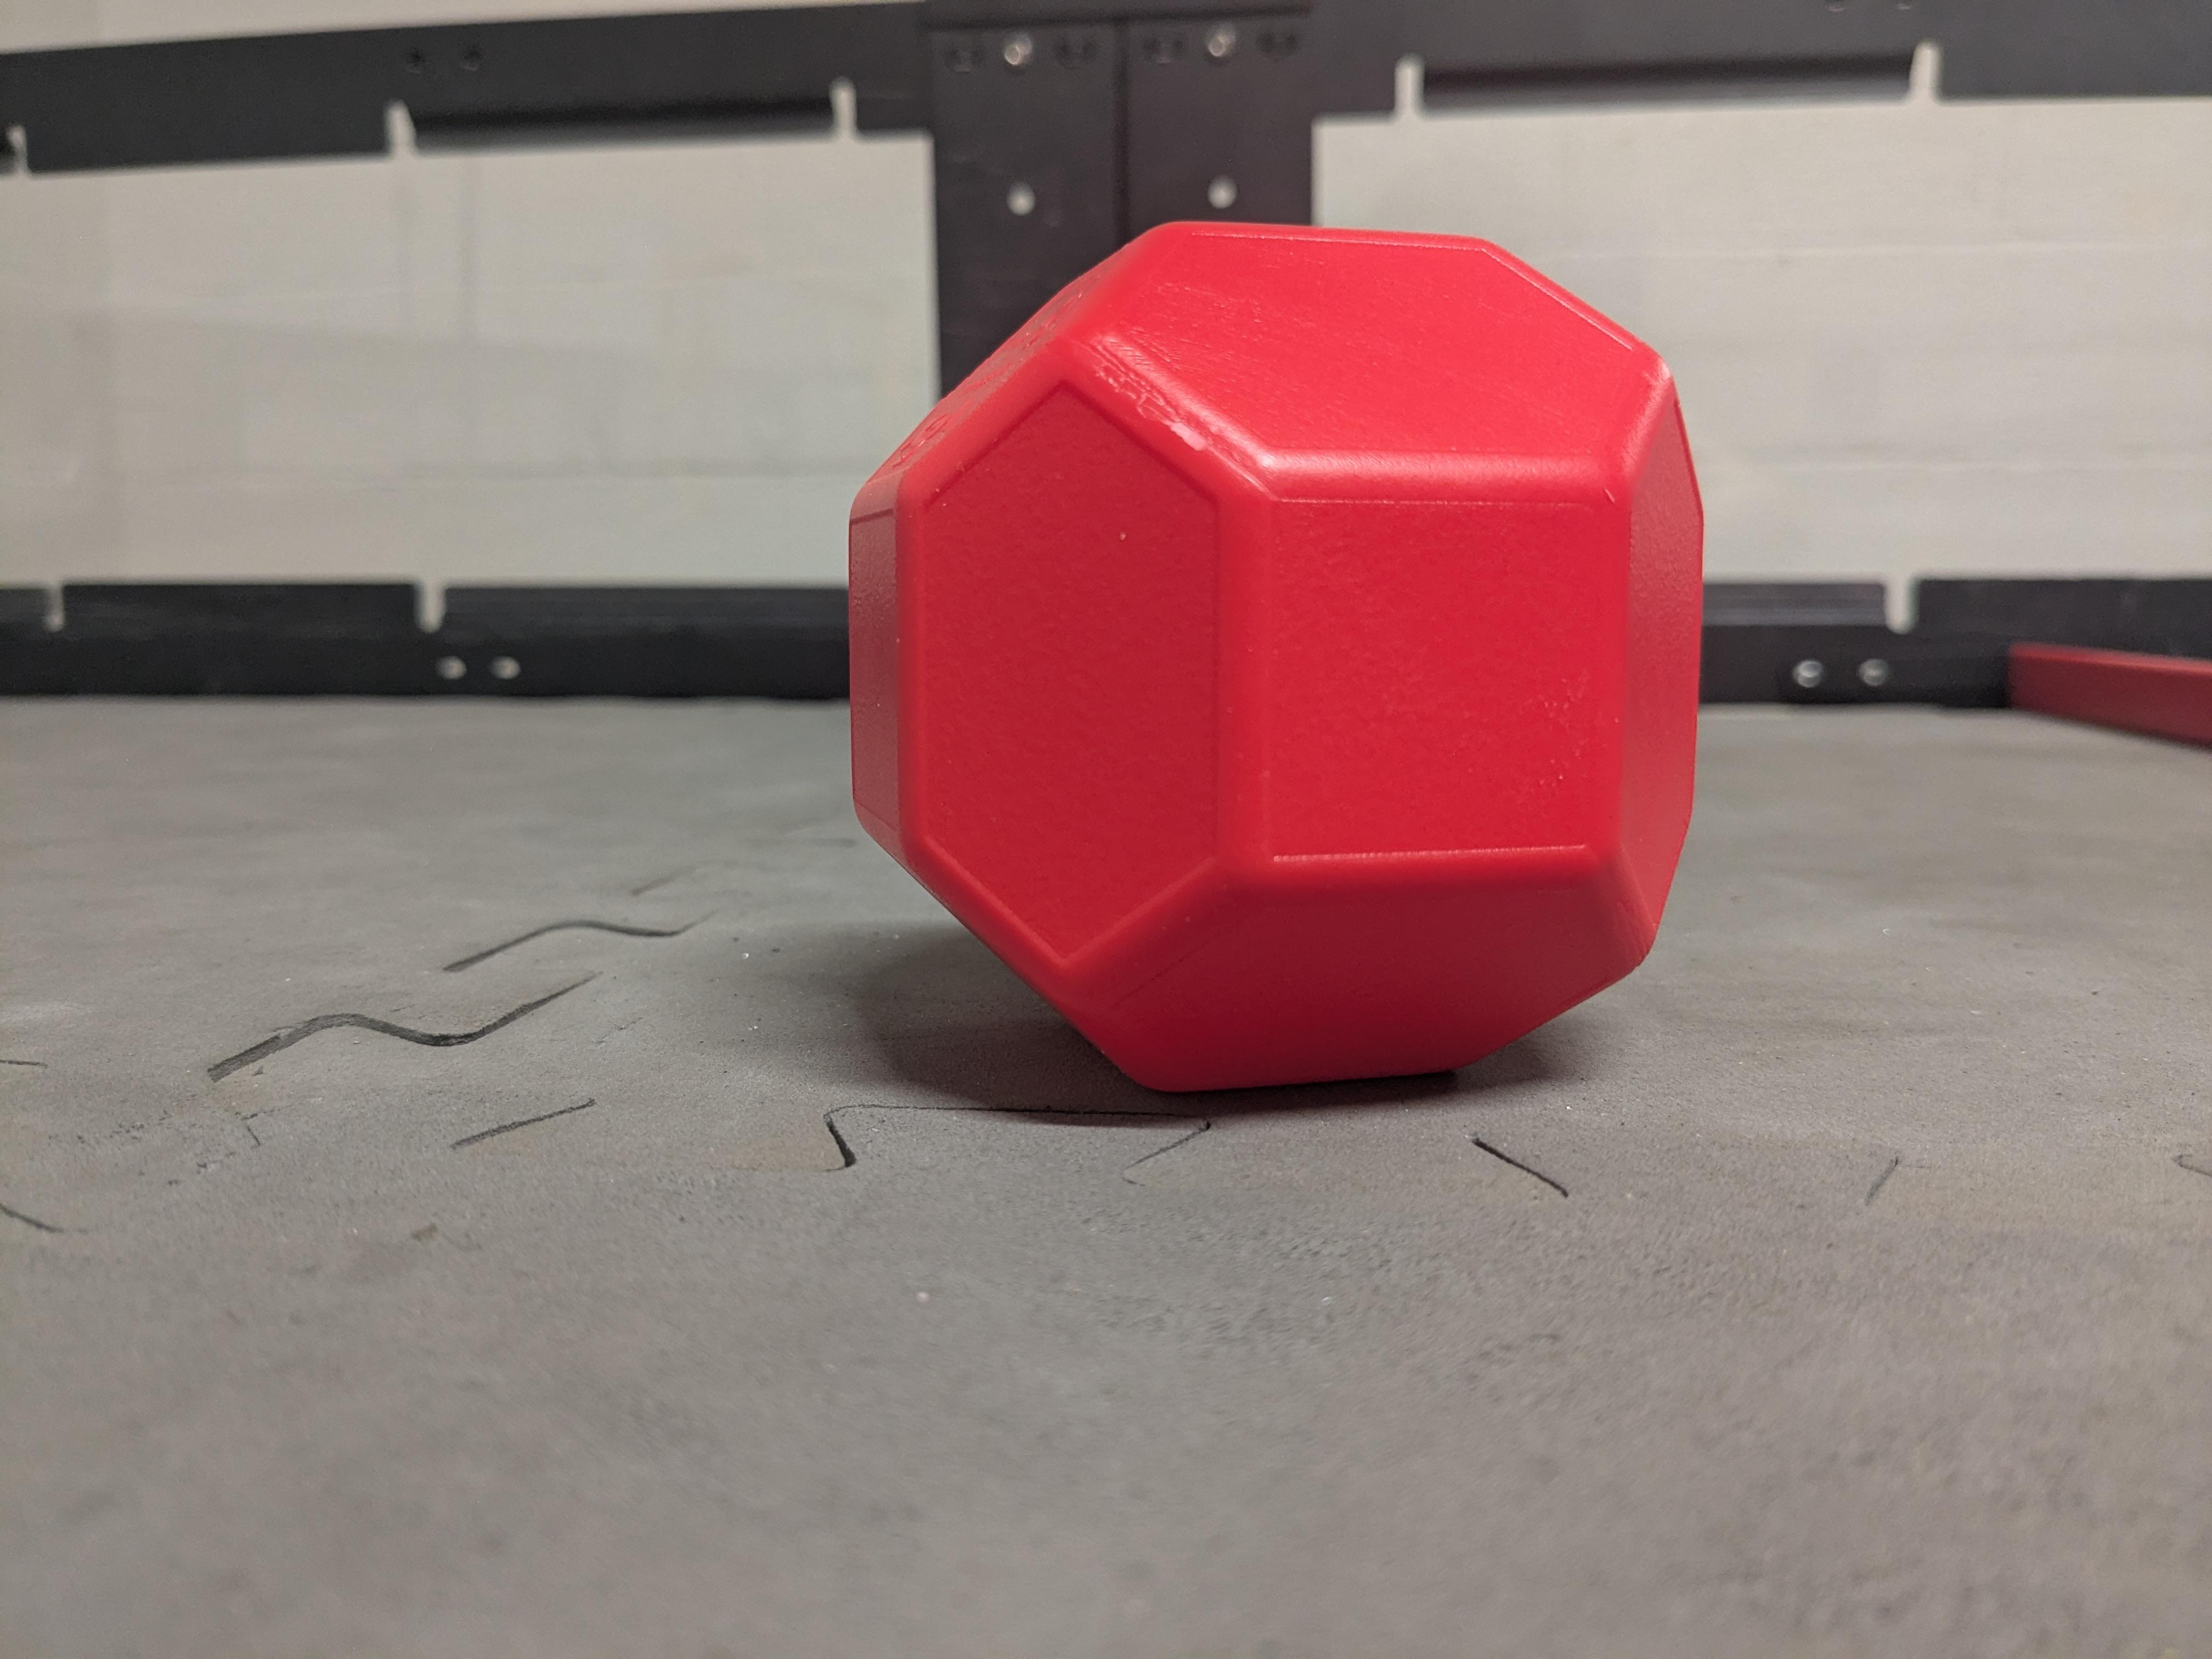Vex-Pieces-RED: (853, 230, 1710, 1100)
